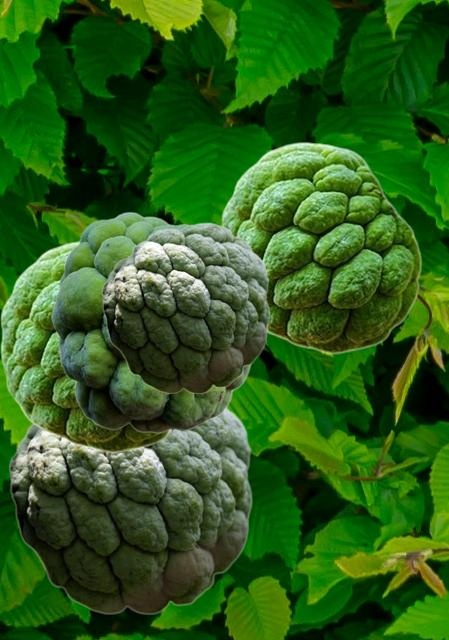atis: (8, 406, 252, 614), (51, 211, 253, 433), (221, 141, 421, 353), (0, 240, 172, 452), (101, 222, 269, 393)
